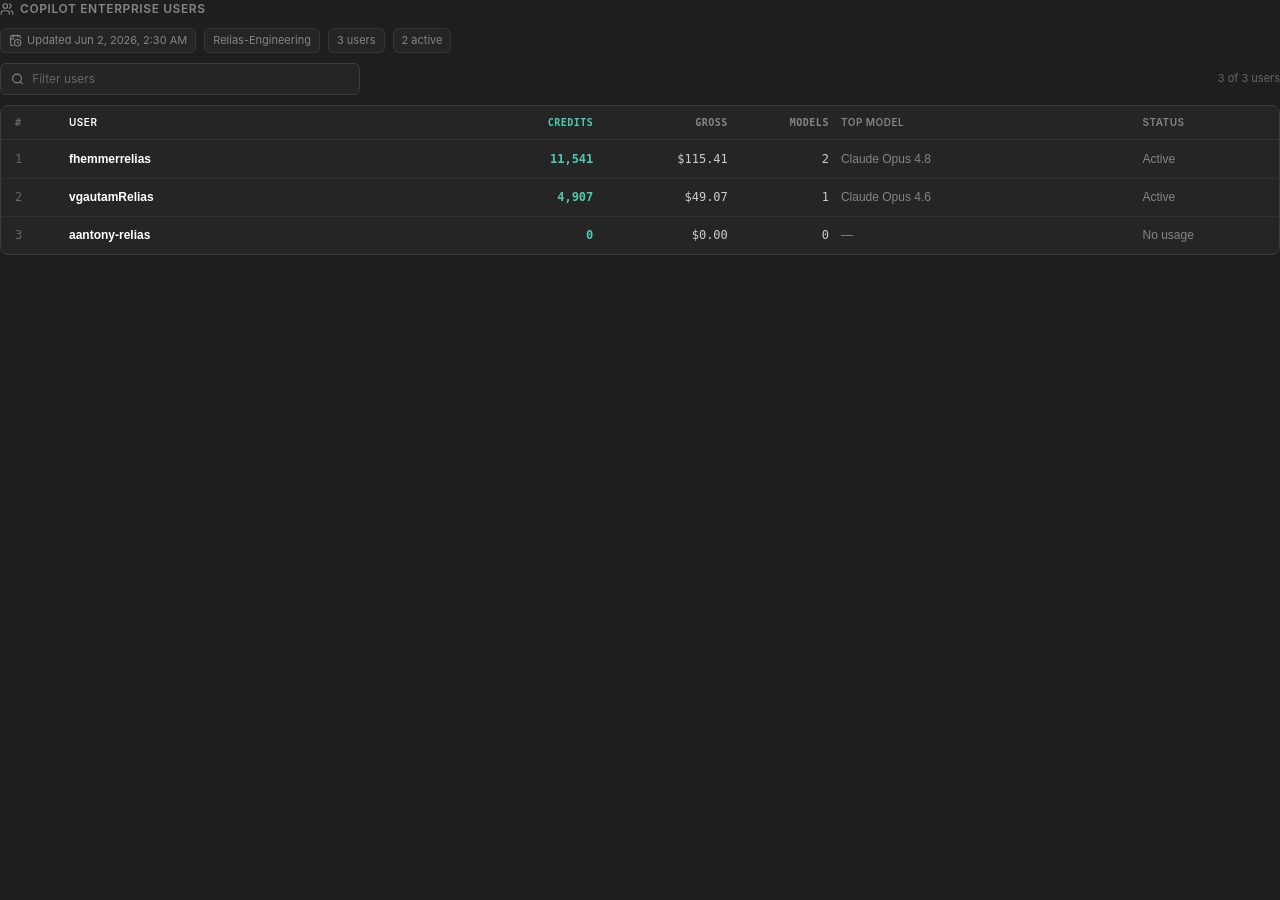
Scenario: TopUsersSection › closes the source JSON modal from the close button
The image size is (1280, 900).
Click the button titled "View source JSON for fhemmerrelias": (110, 158) x1=1 y1=140 x2=1279 y2=178
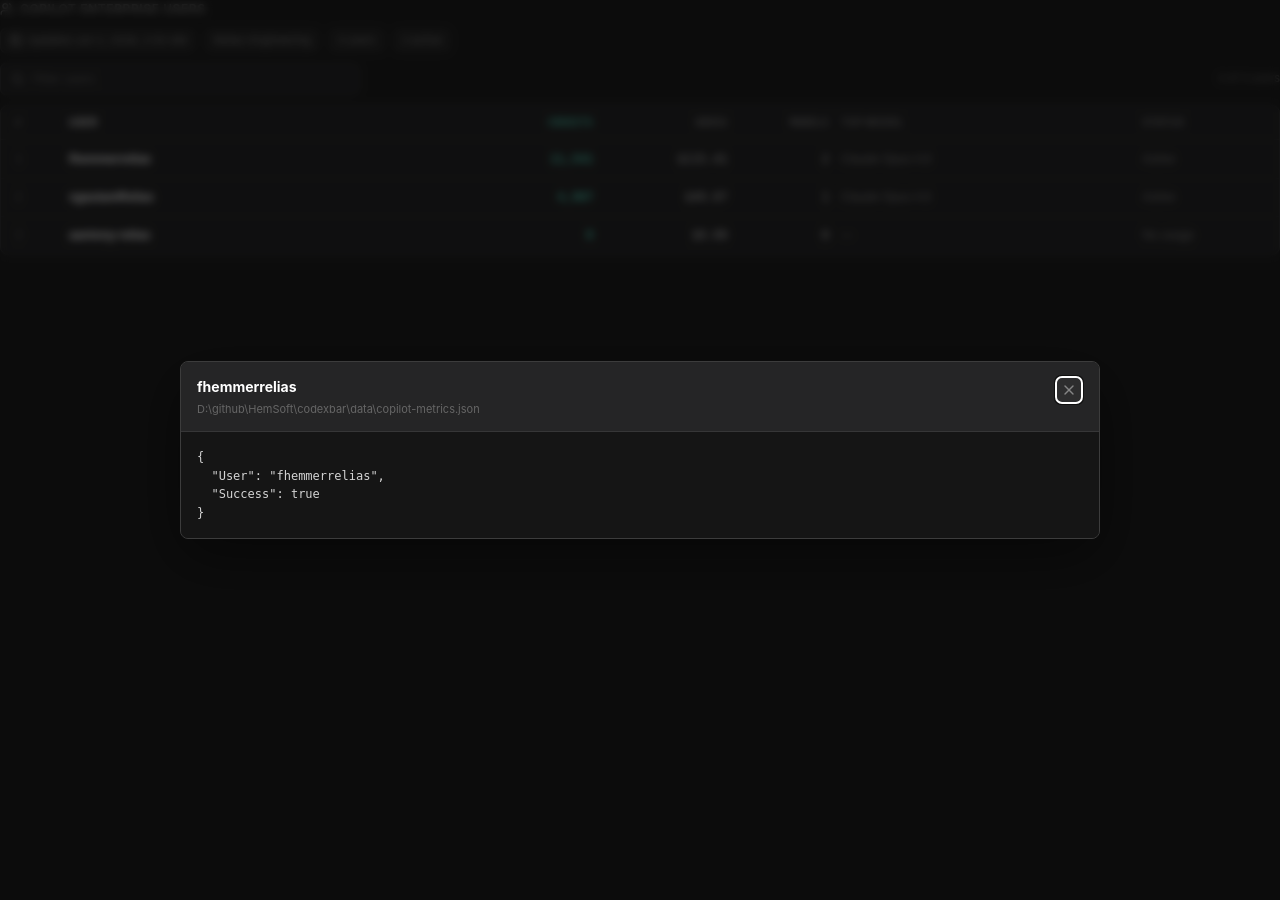
Click the button named "Close source JSON dialog": (1069, 390) x1=1055 y1=376 x2=1083 y2=404
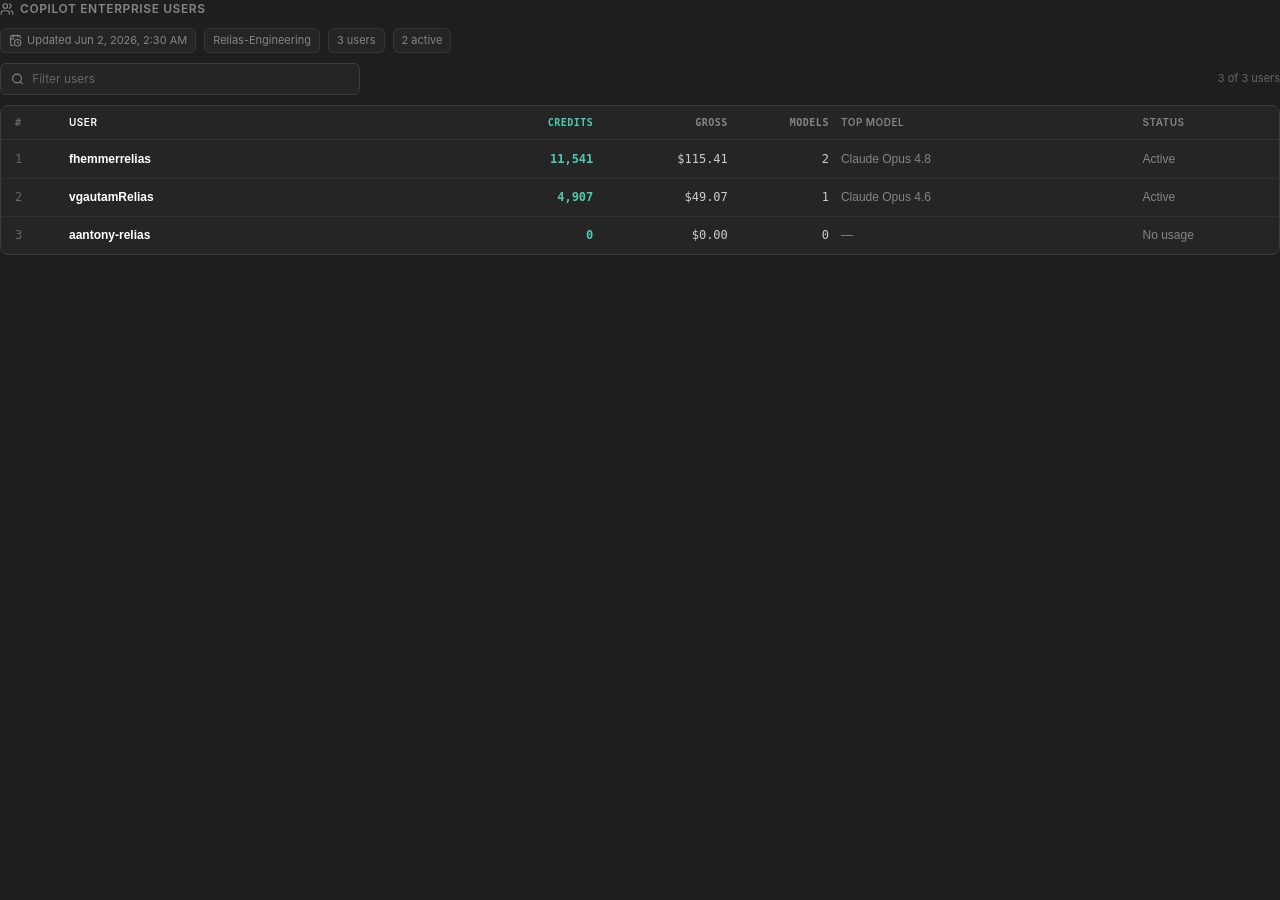
Expected: the dialog is gone
